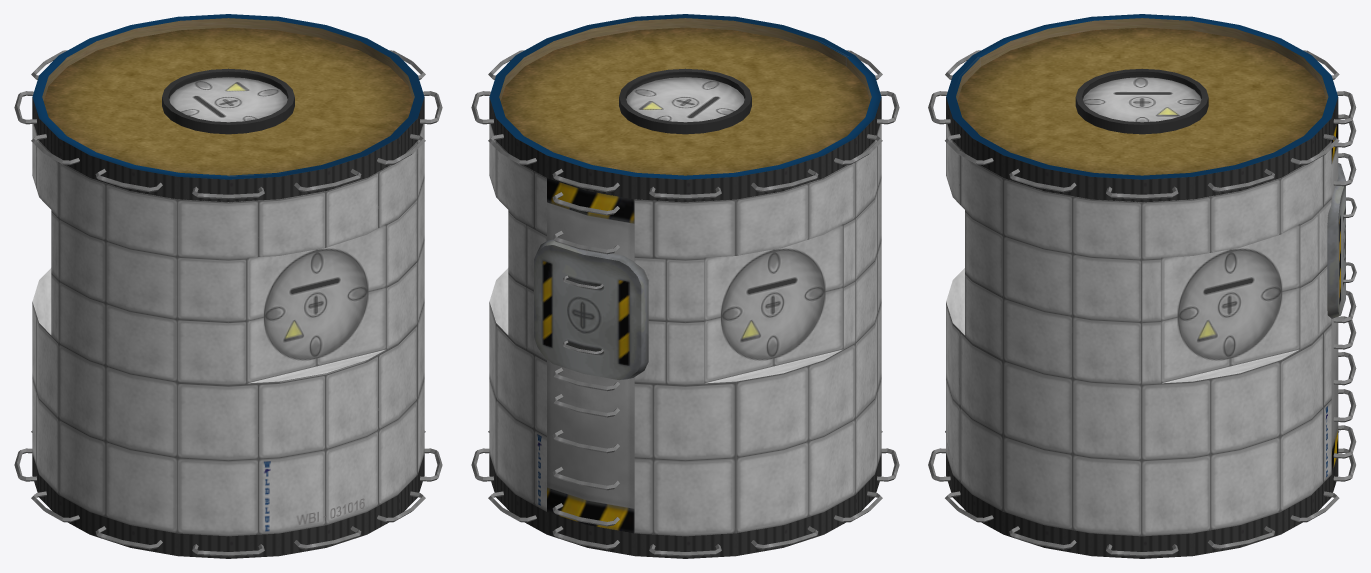
The model's file is StationHub.FBX.
The picture shows the model from 3 angles, left to right: view 1: azimuth 30°, elevation 25°; view 2: azimuth 150°, elevation 25°; view 3: azimuth 270°, elevation 25°; orthographic projection.
Parts seen in each view (by area): view 1: MainBody, TopEndCap, TankSleeve001, TankSleeve002, CrewPort; view 2: MainBody, TopEndCap, TankSleeve001, Hatch, TankSleeve002, CrewPort; view 3: MainBody, TopEndCap, TankSleeve001, TankSleeve002, CrewPort, Hatch.
Part boxes in pixels (x1,y1,x2,y2): MainBody: (32,124,424,536); TopEndCap: (43,27,413,175); TankSleeve001: (32,14,424,202); TankSleeve002: (32,454,424,558); CrewPort: (162,68,294,134); MainBody: (489,124,881,536); TopEndCap: (500,27,870,175); TankSleeve001: (489,14,881,202); Hatch: (534,239,648,380); TankSleeve002: (489,453,881,558); CrewPort: (619,68,751,134); MainBody: (946,124,1338,536); TopEndCap: (957,27,1326,175); TankSleeve001: (946,14,1338,202); TankSleeve002: (946,454,1338,558); CrewPort: (1075,68,1208,134); Hatch: (1327,163,1345,318).
Size of what is drawn, in the model's own units: 2.05 by 2 by 2.05.
Materials: 1 (1 with a texture image).
